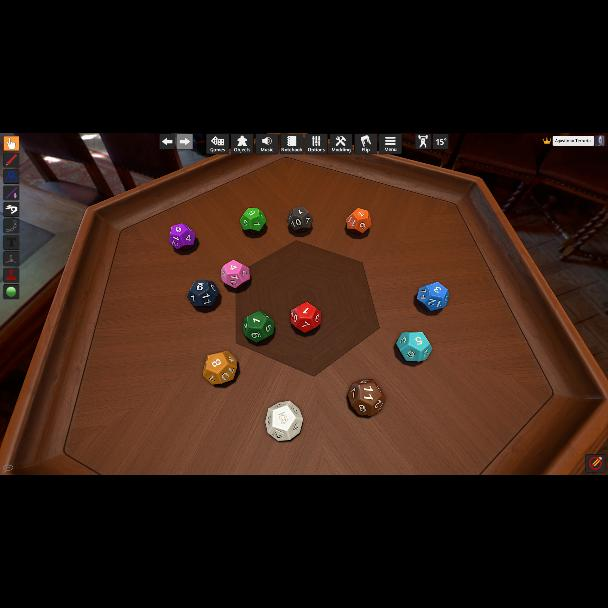d12: (265, 401, 303, 442), (346, 380, 382, 416), (202, 352, 234, 384), (242, 312, 274, 342), (416, 281, 448, 311), (399, 332, 430, 362), (290, 302, 320, 332), (188, 280, 218, 307), (220, 260, 247, 290), (170, 222, 196, 250), (347, 208, 371, 235), (288, 207, 312, 233), (240, 208, 266, 232)
